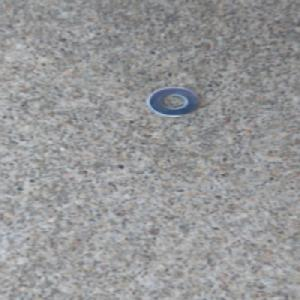Washer: (144, 84, 204, 119)
